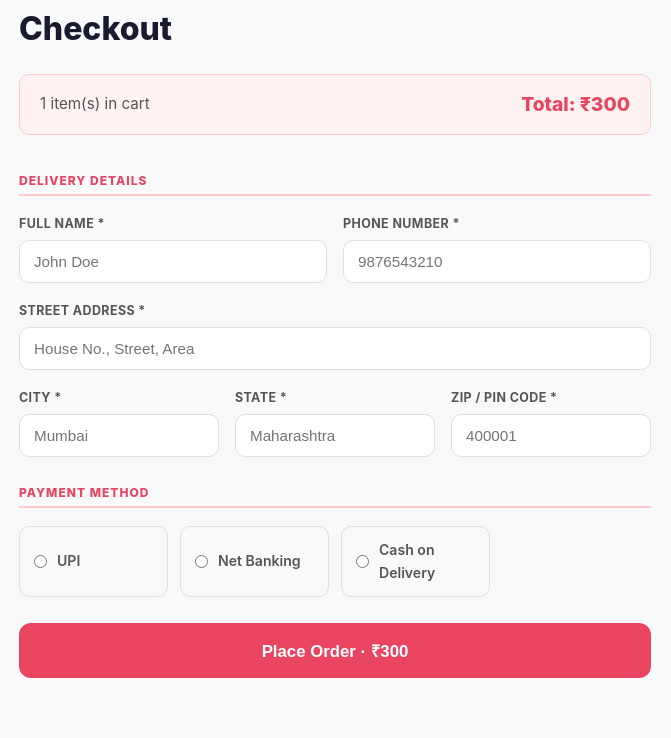
Scenario: CheckoutPage – form validation › shows inline error when phone is blurred with invalid value
Type "123" into the field with placeholder "9876543210" at (497, 262), box [343,240,651,283]
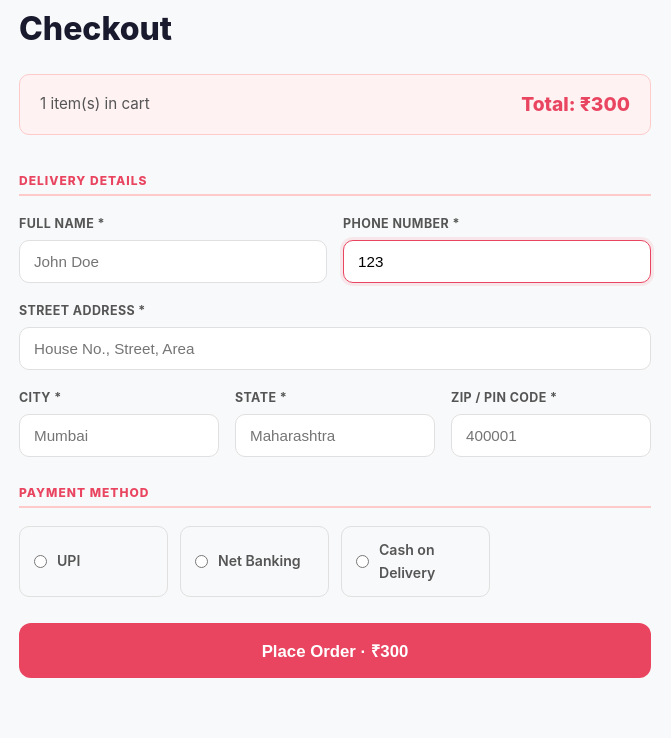
Press Tab
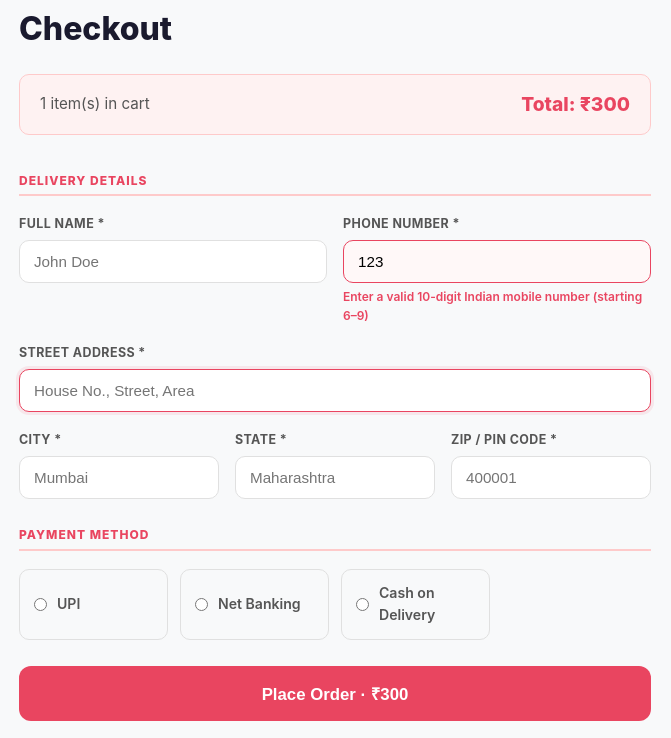
Result: the text "Enter a valid 10-digit Indian mobile number (starting 6–9)" is shown at [343,287,651,326]
